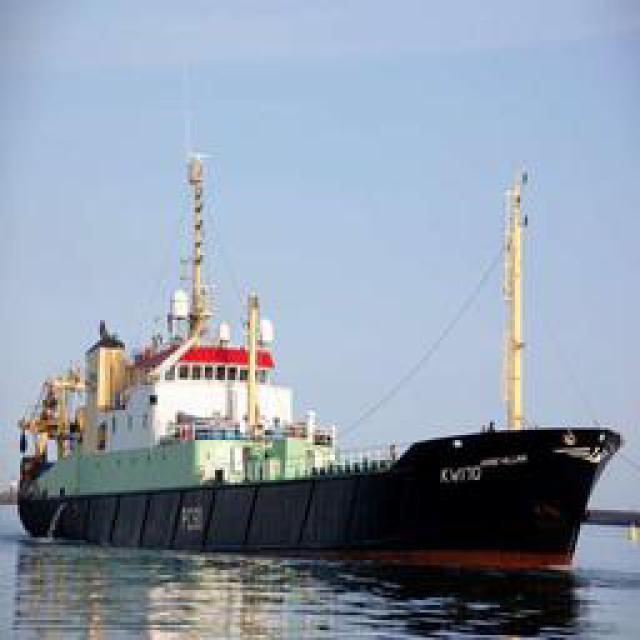Ship: (15, 116, 618, 554)
